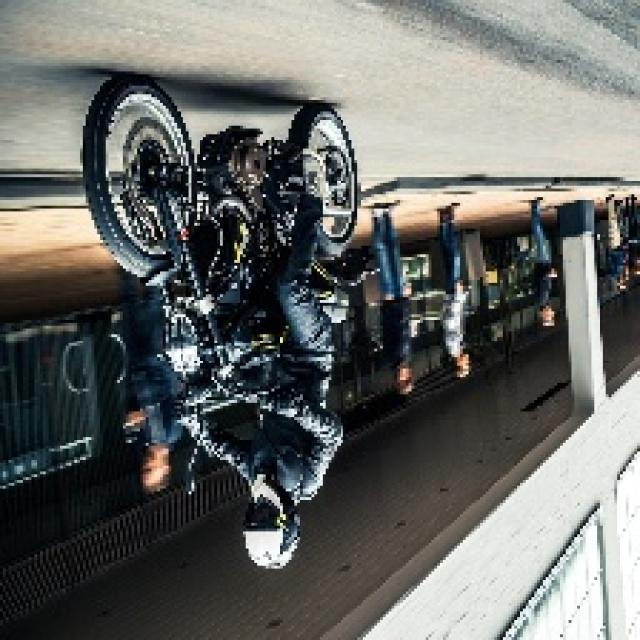bike: (51, 81, 367, 403)
